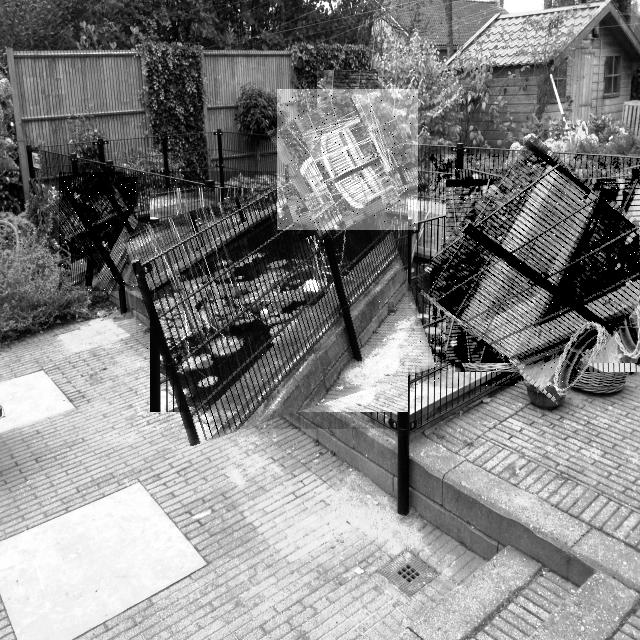fences: (136, 171, 422, 429), (430, 154, 640, 386), (277, 89, 418, 230), (59, 172, 152, 291)
